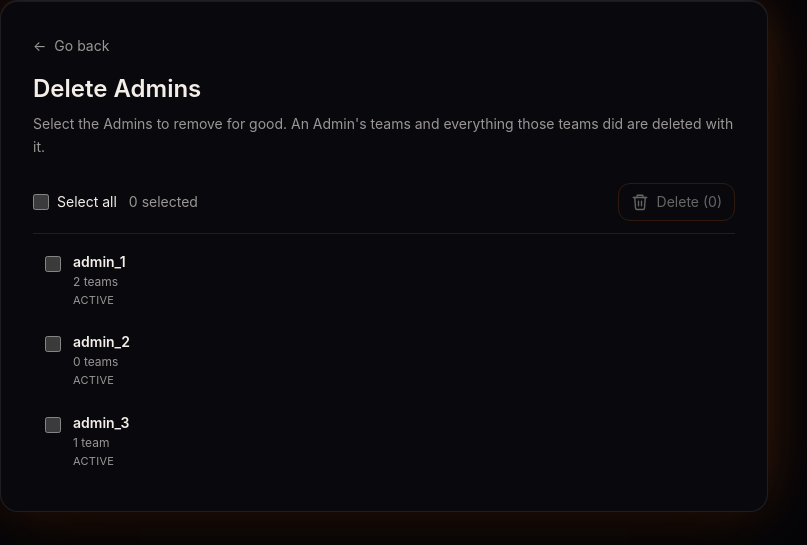
Scenario: <DeletionScreen kind='admins' /> › supports single and multiple selection and shows the count
Click the checkbox named "Select admin_1".
click(53, 264)  # box [45,256,61,272]
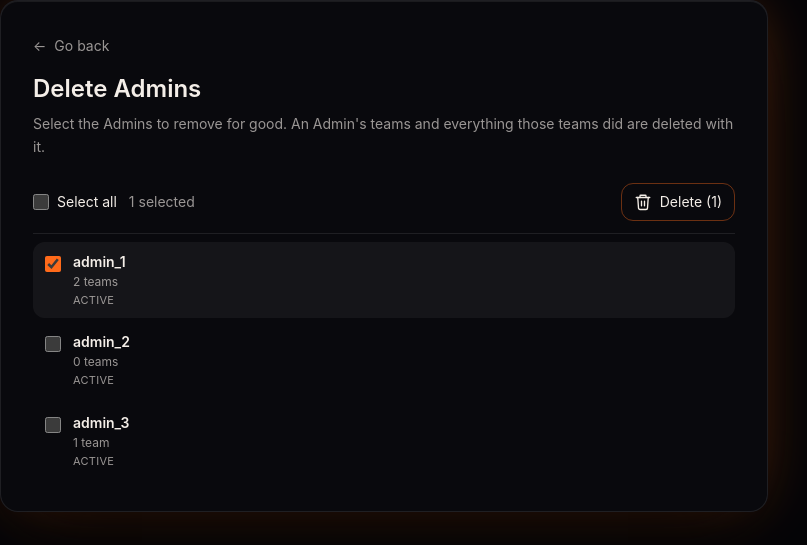
Check: the text with test id "selected-count" reads "1 selected", box [129,192,195,212]
Check: the button with aria-label "Delete selected" is enabled, box [621,182,735,220]
Click the checkbox named "Select admin_3".
click(53, 424)  # box [45,416,61,432]
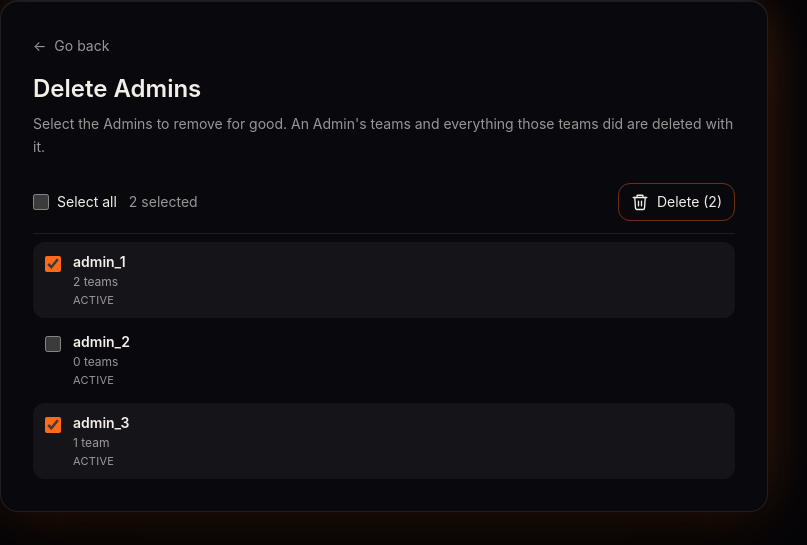
Check: the text with test id "selected-count" reads "2 selected", box [129,192,198,212]
Click the checkbox named "Select admin_1".
click(53, 264)  # box [45,256,61,272]
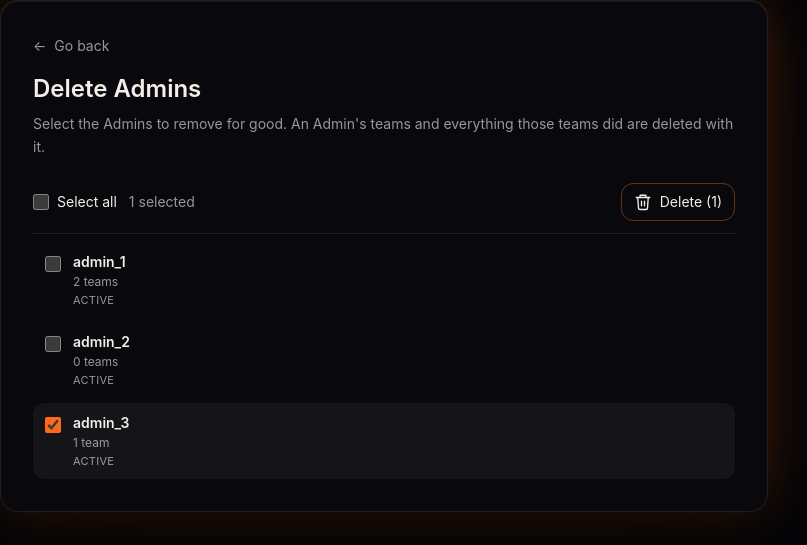
Click the checkbox named "Select admin_3".
click(53, 424)  # box [45,416,61,432]
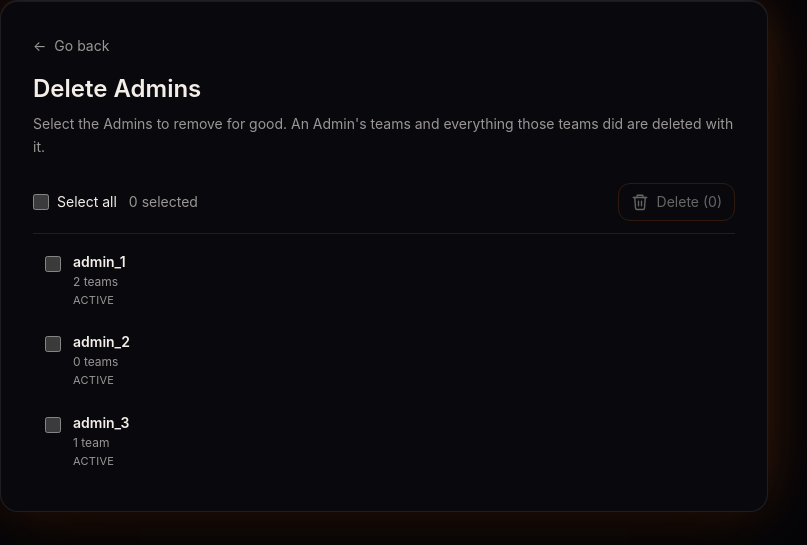
Check: the button with aria-label "Delete selected" is disabled, box [618,182,735,220]
